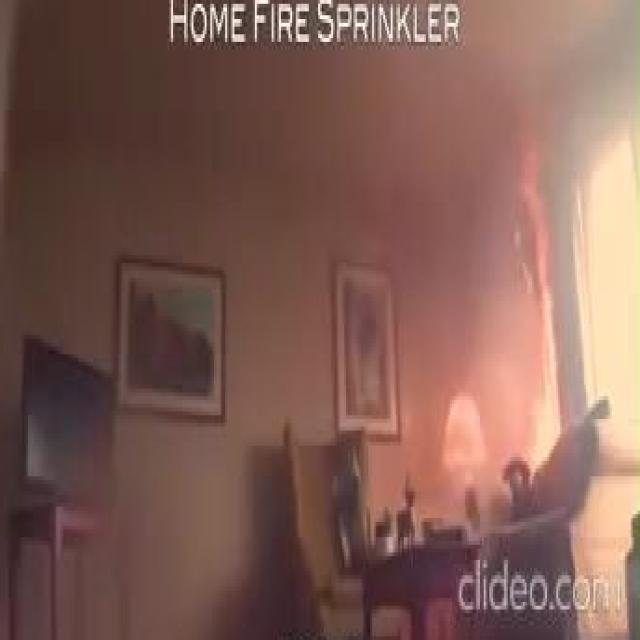smoke: (510, 156, 560, 465)
